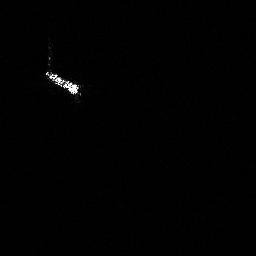ship: (41, 68, 84, 96)
